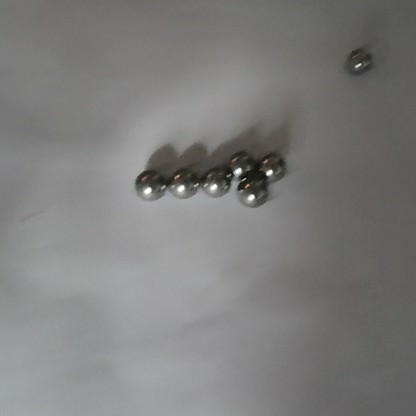ironball: (128, 165, 167, 200), (166, 160, 198, 202), (197, 163, 232, 200), (237, 174, 269, 211), (259, 149, 289, 185), (345, 41, 372, 76), (228, 145, 258, 175)
